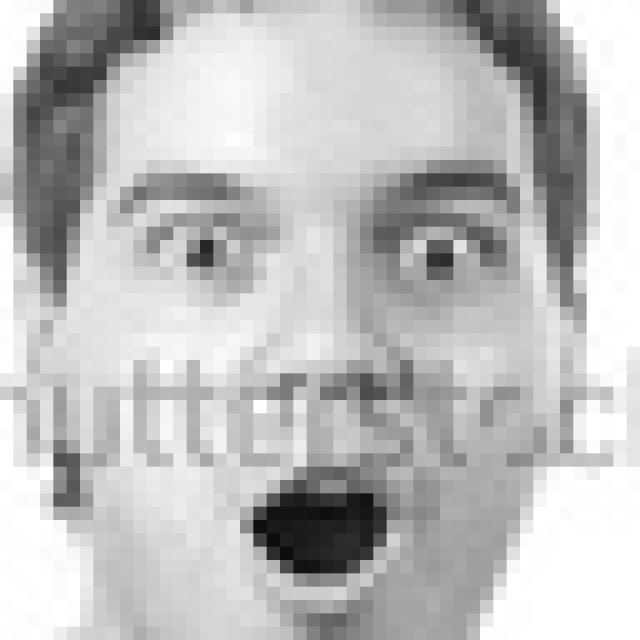surprise: (104, 156, 523, 640)
